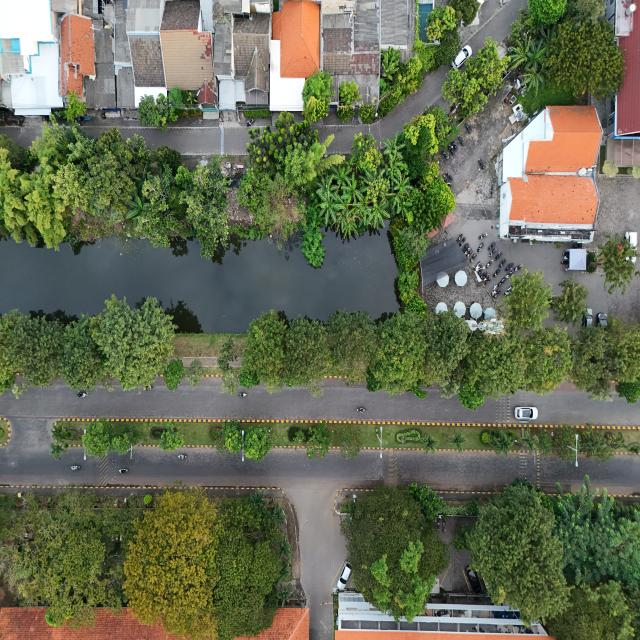Tree: (551, 277, 589, 326), (84, 422, 111, 456), (243, 426, 270, 458), (159, 422, 186, 453), (164, 356, 186, 391), (340, 425, 362, 458), (138, 94, 159, 126), (339, 81, 361, 103), (447, 428, 467, 451), (493, 433, 513, 455), (188, 357, 203, 386), (420, 433, 440, 454), (49, 441, 68, 461), (52, 424, 66, 441)
